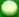white: (0, 0, 19, 17)
